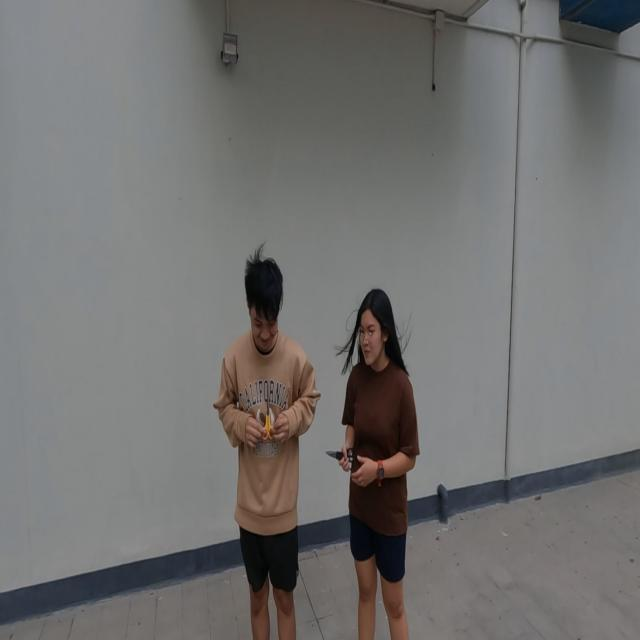scissor: (262, 386, 275, 442), (325, 448, 354, 471)
